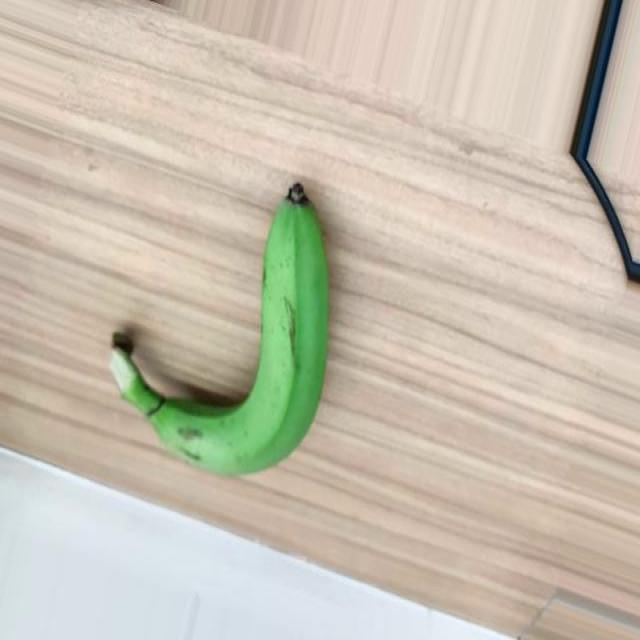Unripe: (104, 180, 330, 478)
